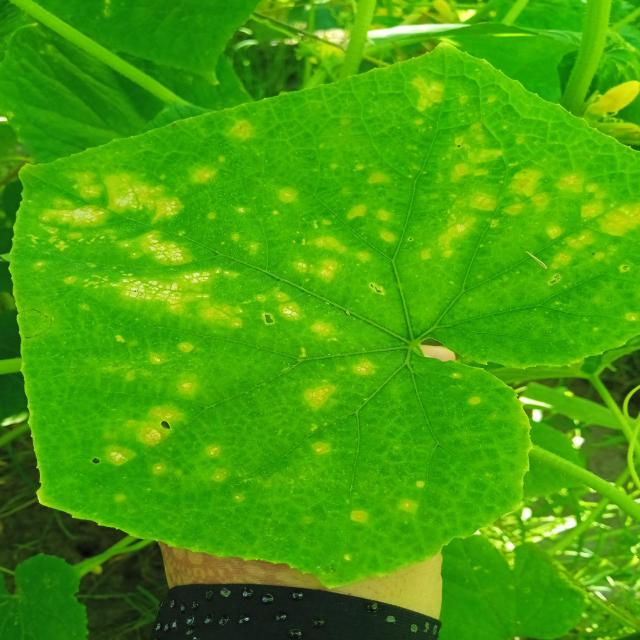cucumber_downy: (21, 126, 631, 572)
